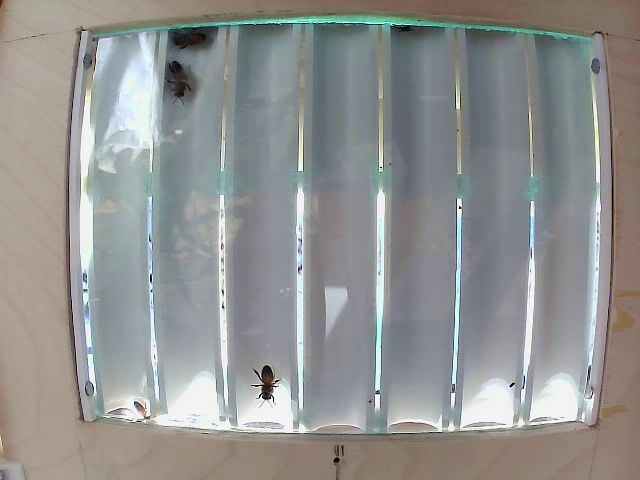bee: (237, 354, 284, 409), (164, 55, 201, 119), (169, 23, 220, 58)
